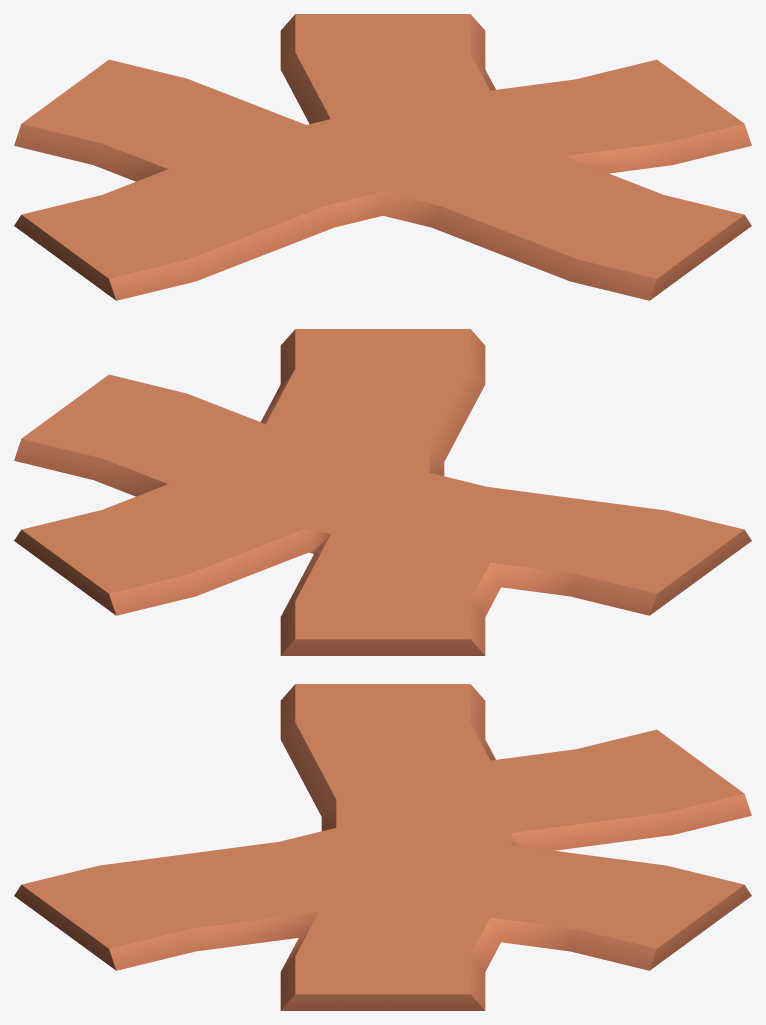
File: kenney-hexagon-path-intersectiong.glb
3 views of the same model, one above another, from view 1: azimuth 30°, elevation 25°; view 2: azimuth 150°, elevation 25°; view 3: azimuth 270°, elevation 25° (orthographic).
Parts seen in each view (by area): view 1: path_intersectionG; view 2: path_intersectionG; view 3: path_intersectionG.
Part boxes in pixels (x1,y1,x2,y2): path_intersectionG: [14, 14, 751, 300]; path_intersectionG: [14, 329, 751, 655]; path_intersectionG: [14, 684, 751, 1010].
Bounding box in the file's own units: 1 × 0.025 × 1.01.
1 material, 1 textured.
